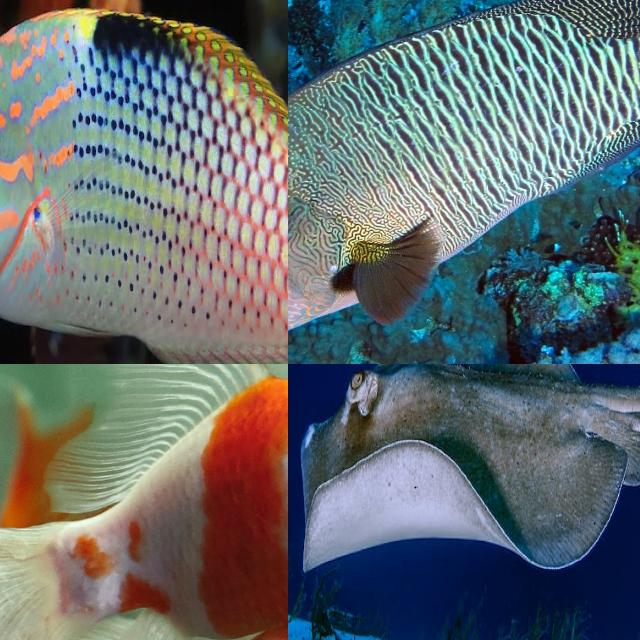fish: (288, 0, 640, 364), (0, 0, 288, 364), (331, 364, 640, 640), (0, 364, 288, 640)
